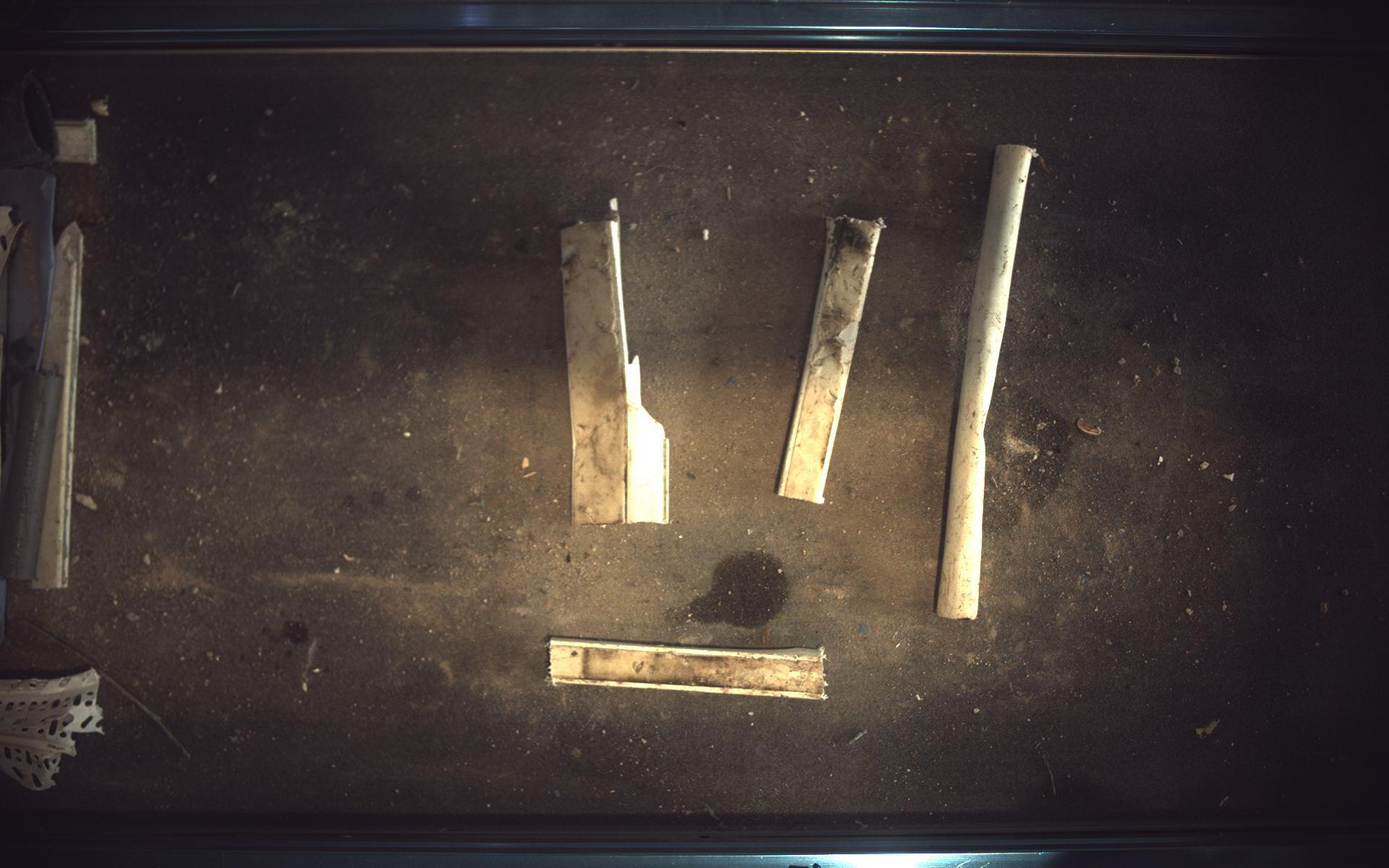pipes: (938, 144, 1040, 620), (1, 371, 61, 581), (1, 70, 56, 166)
plastic: (561, 197, 670, 524), (778, 214, 886, 503), (30, 221, 82, 590), (548, 638, 829, 702), (1, 669, 101, 791), (52, 117, 96, 163), (1, 204, 22, 277)
